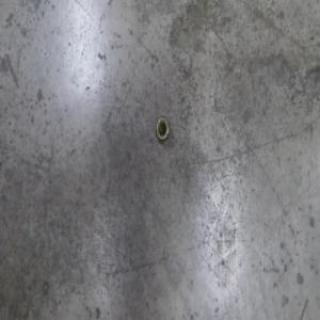Nuttrack_idkeyframe: (154, 113, 170, 145)
